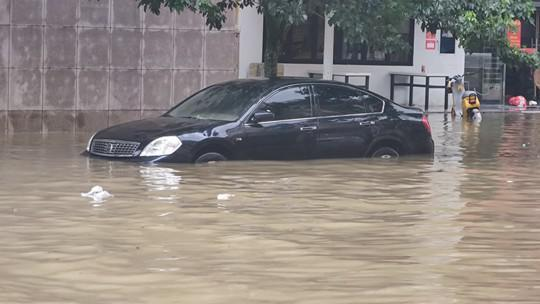water: (0, 109, 538, 302)
